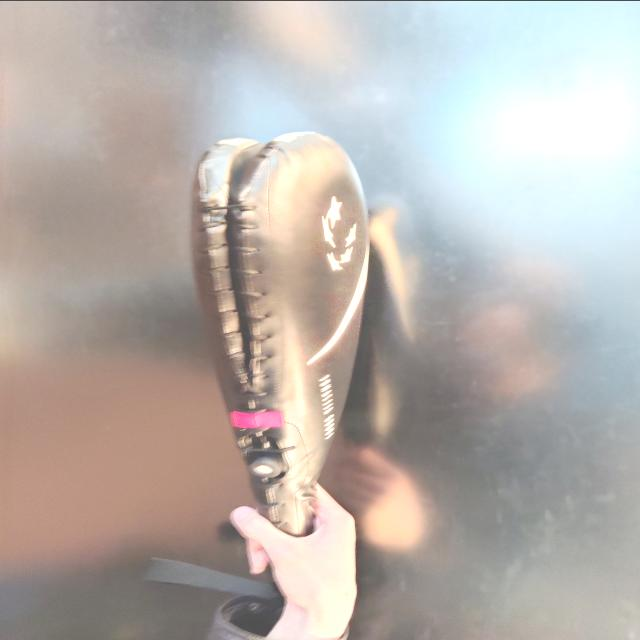paddle: (192, 127, 372, 537)
